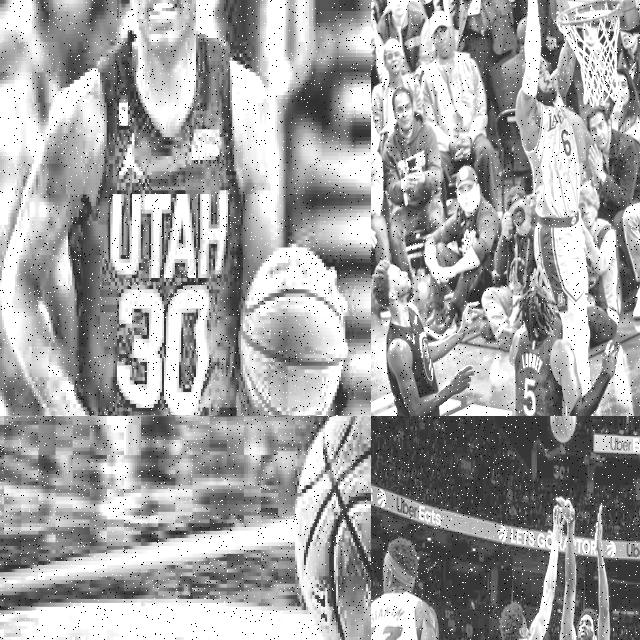Basketball: (243, 248, 350, 416), (295, 416, 371, 640), (551, 416, 576, 440)
